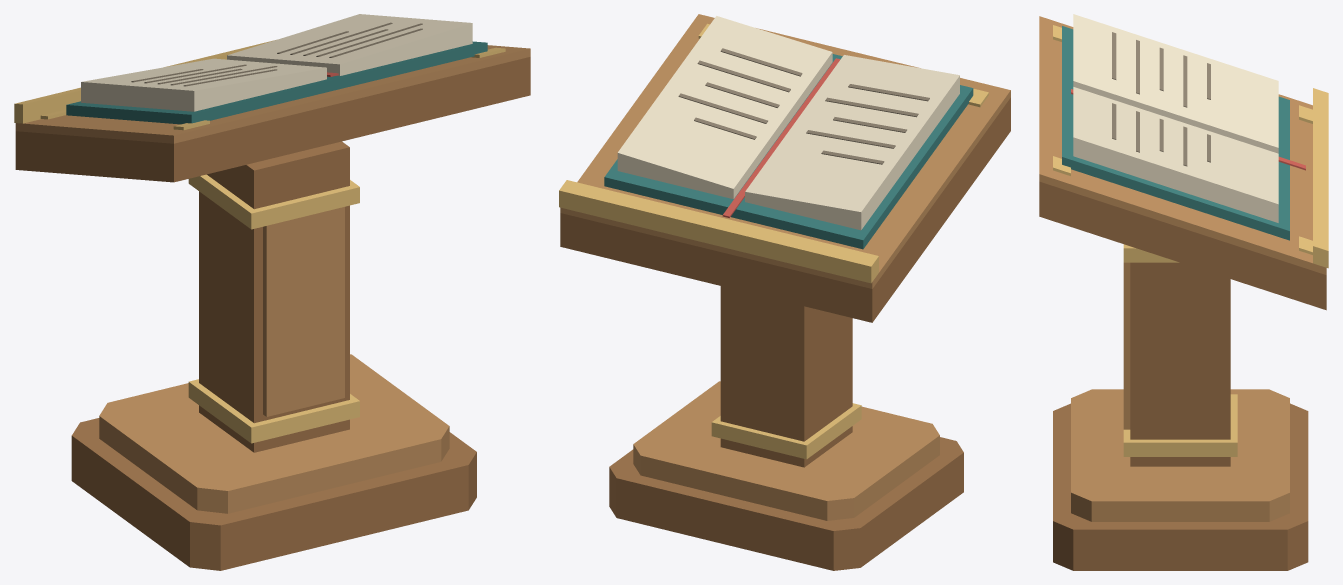
The model's file is Lectern.glb.
The picture shows the model from 3 angles, left to right: view 1: azimuth 30°, elevation 25°; view 2: azimuth 150°, elevation 25°; view 3: azimuth 270°, elevation 25°; orthographic projection. The views are drawn at different scales.
Parts seen in each view (by area): view 1: Lectern; view 2: Lectern; view 3: Lectern.
Part boxes in pixels (x1,y1,x2,y2): Lectern: [14, 14, 530, 570]; Lectern: [559, 14, 1010, 570]; Lectern: [1039, 14, 1328, 570].
Bounding box in the file's own units: 0.82 × 1.04 × 0.635.
